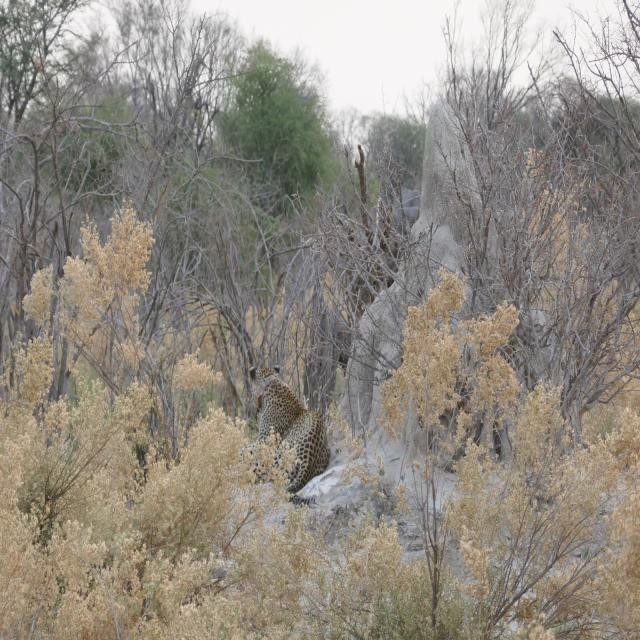Leopard: (245, 363, 331, 508)
